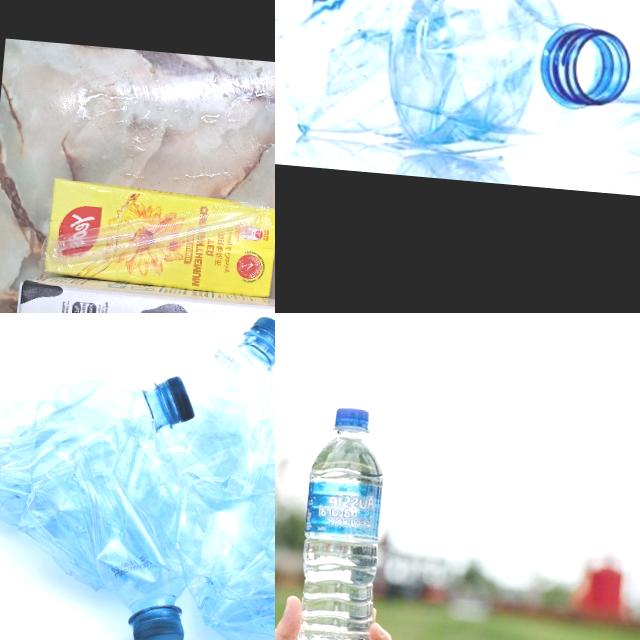caixinha: (41, 178, 275, 295)
garrafa plástica: (275, 0, 637, 170), (57, 410, 201, 617), (121, 333, 275, 511), (0, 366, 160, 495), (291, 423, 386, 640), (169, 450, 275, 640)
tampa plástica: (162, 374, 198, 424), (131, 614, 183, 640), (249, 314, 275, 353), (333, 406, 370, 432)
